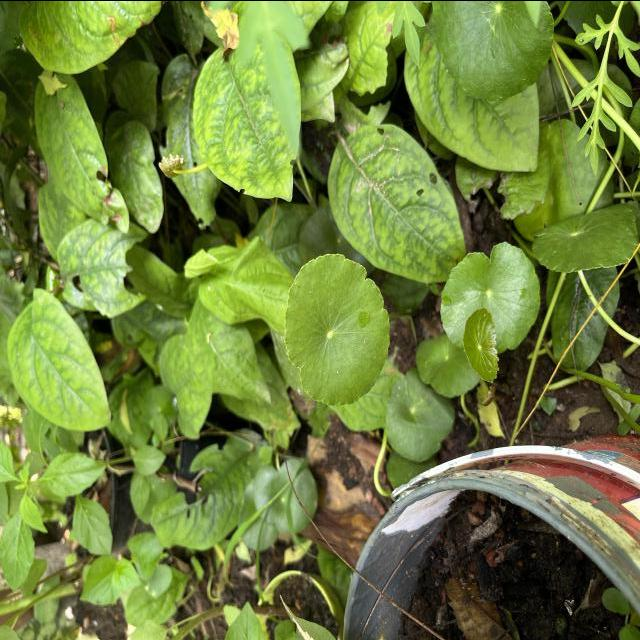Bacopa monnieri: (282, 249, 392, 407), (429, 0, 556, 102), (438, 238, 542, 356), (460, 305, 502, 384)
